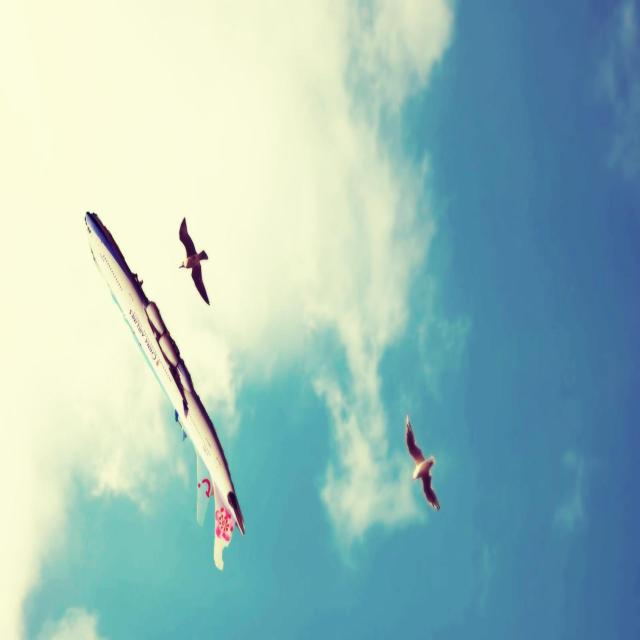airplane: (84, 208, 245, 560)
